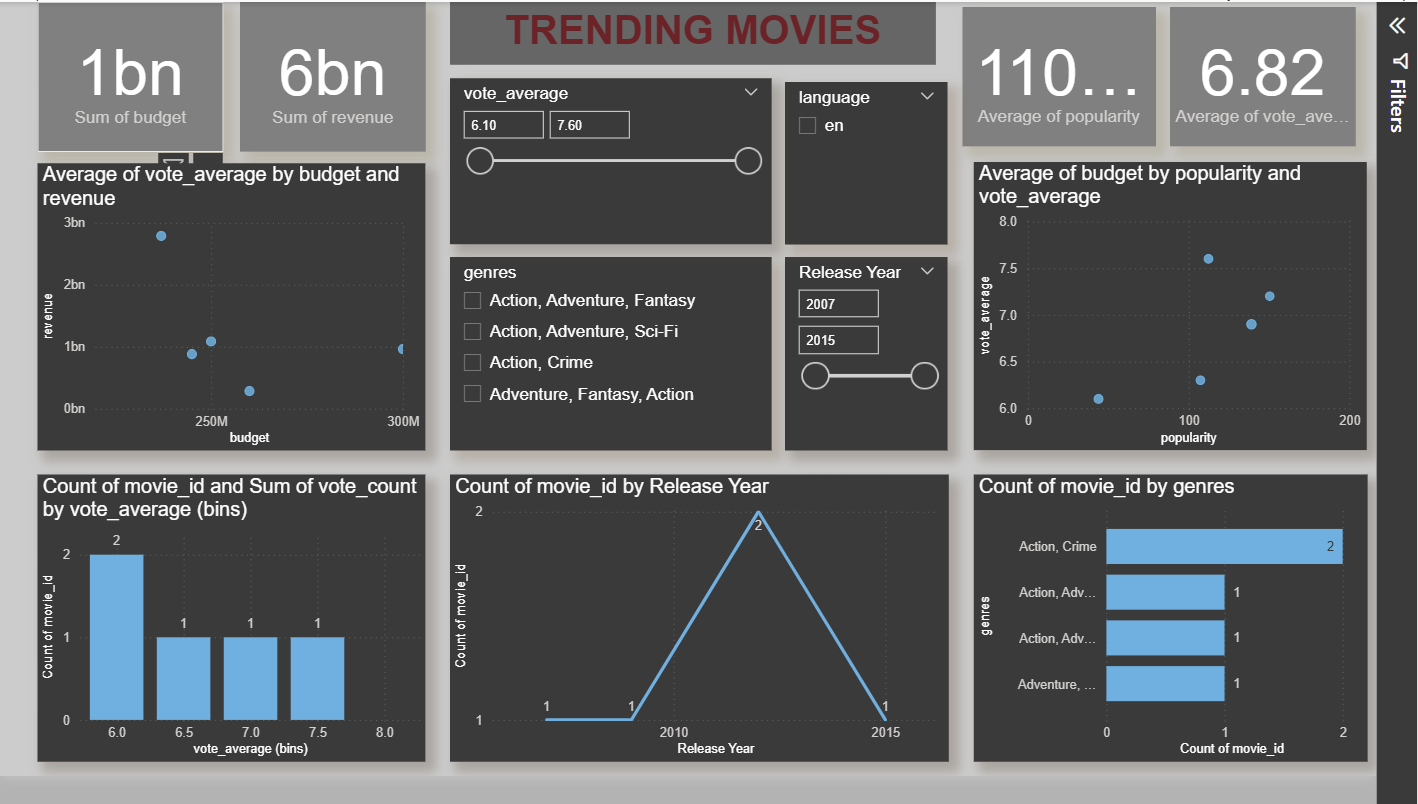

What the dashboard file says about the page in this screenshot:
{"tool":"powerbi","page":{"name":"Page 1","canvas":[1280,720],"ordinal":0},"visuals":[{"type":"textbox","box":[418.3,0,451.9,58.8],"z":0},{"type":"card","fields":{"Values":["Sum(Trending_Movies_Metadata.budget)"]},"box":[35.3,0,173,139.4],"z":1000},{"type":"card","fields":{"Values":["Sum(Trending_Movies_Metadata.revenue)"]},"box":[223.4,0,173,139.4],"z":2000},{"type":"card","fields":{"Values":["Avg(Trending_Movies_Metadata.vote_average)"]},"box":[1088.5,5,173,129.3],"z":3000},{"type":"card","fields":{"Values":["Avg(Trending_Movies_Metadata.popularity)"]},"box":[895.3,5,179.7,129.3],"z":4000},{"type":"scatterChart","fields":{"X":["Trending_Movies_Metadata.budget"],"Y":["Trending_Movies_Metadata.revenue"]},"box":[35.3,149.5,361.2,267.1],"z":5000},{"type":"clusteredColumnChart","fields":{"Category":["Trending_Movies_Metadata.vote_average (bins)"],"Y":["CountNonNull(Trending_Movies_Metadata.movie_id)"]},"box":[35.3,440.1,361.2,267.1],"z":6000},{"type":"lineChart","fields":{"Category":["Trending_Movies_Metadata.Release Year"],"Y":["CountNonNull(Trending_Movies_Metadata.movie_id)"]},"box":[418.3,440.1,463.6,267.1],"z":7000},{"type":"barChart","fields":{"Y":["CountNonNull(Trending_Movies_Metadata.movie_id)"],"Category":["Trending_Movies_Metadata.genres"]},"box":[905.4,440.1,366.2,267.1],"z":8000},{"type":"scatterChart","fields":{"X":["Trending_Movies_Metadata.popularity"],"Y":["Trending_Movies_Metadata.vote_average"],"Size":["Avg(Trending_Movies_Metadata.budget)"]},"box":[905.8,148.3,365.8,267.8],"z":9000},{"type":"slicer","fields":{"Values":["Trending_Movies_Metadata.genres"]},"box":[418.3,236.9,299,179.7],"z":10000},{"type":"slicer","fields":{"Values":["Trending_Movies_Metadata.Release Year"]},"box":[730.7,236.9,151.2,179.7],"z":11000},{"type":"slicer","fields":{"Values":["Trending_Movies_Metadata.language"]},"box":[730.7,73.9,151.2,151.2],"z":12000},{"type":"slicer","fields":{"Values":["Trending_Movies_Metadata.vote_average"]},"box":[418.3,70.6,299,154.5],"z":13000}]}

Visuals, with their boxes in screenshot pixels (x1, y1, x2, y2):
textbox: <box>442,0,936,57</box>
card - Sum(Trending_Movies_Metadata.budget): <box>24,0,213,145</box>
card - Sum(Trending_Movies_Metadata.revenue): <box>229,0,418,145</box>
card - Avg(Trending_Movies_Metadata.vote_average): <box>1174,0,1363,139</box>
card - Avg(Trending_Movies_Metadata.popularity): <box>963,0,1160,139</box>
scatterChart - Trending_Movies_Metadata.budget x Trending_Movies_Metadata.revenue: <box>24,156,418,448</box>
clusteredColumnChart - Trending_Movies_Metadata.vote_average (bins) x CountNonNull(Trending_Movies_Metadata.movie_id): <box>24,473,418,765</box>
lineChart - Trending_Movies_Metadata.Release Year x CountNonNull(Trending_Movies_Metadata.movie_id): <box>442,473,949,765</box>
barChart - CountNonNull(Trending_Movies_Metadata.movie_id) x Trending_Movies_Metadata.genres: <box>974,473,1374,765</box>
scatterChart - Trending_Movies_Metadata.popularity x Trending_Movies_Metadata.vote_average: <box>975,155,1374,447</box>
slicer - Trending_Movies_Metadata.genres: <box>442,251,769,448</box>
slicer - Trending_Movies_Metadata.Release Year: <box>784,251,949,448</box>
slicer - Trending_Movies_Metadata.language: <box>784,73,949,239</box>
slicer - Trending_Movies_Metadata.vote_average: <box>442,70,769,239</box>
